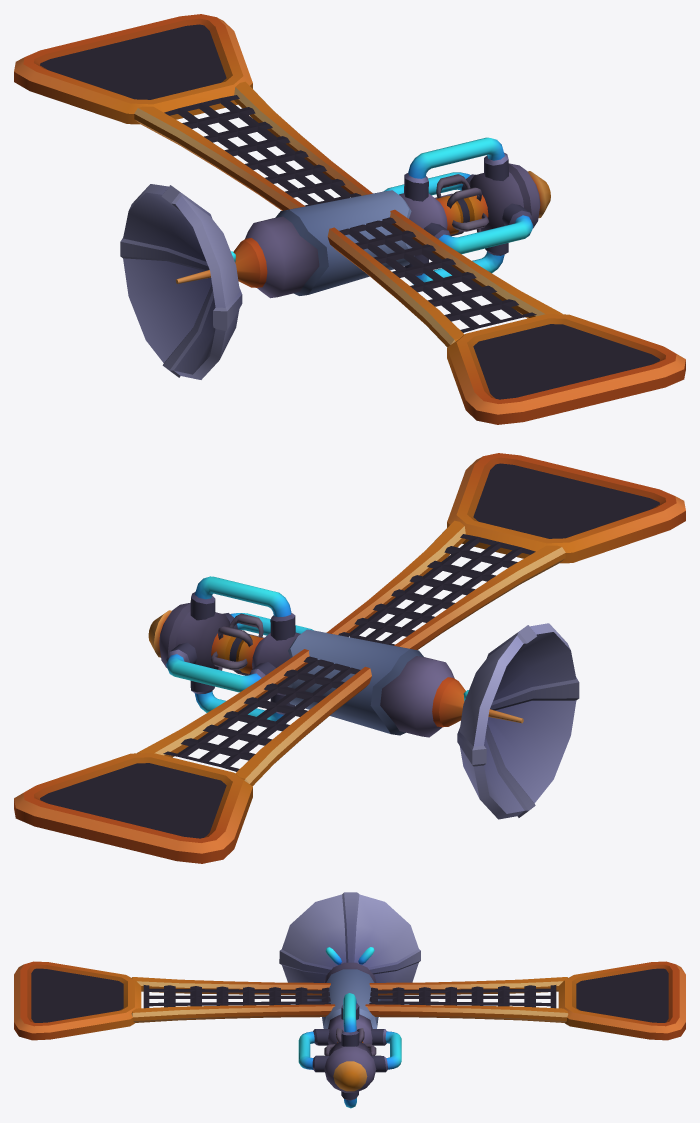
The model's file is SM_Swing _01.fbx.
3 renders of one model, top to bottom at view 1: azimuth 30°, elevation 25°; view 2: azimuth 150°, elevation 25°; view 3: azimuth 270°, elevation 25°, orthographic. The views are drawn at different scales.
Visible parts, largest first — view 1: SM_Swing _01; view 2: SM_Swing _01; view 3: SM_Swing _01.
Boxes of the visible parts, left/top/right/bottom form: SM_Swing _01: left=14, top=14, right=685, bottom=424; SM_Swing _01: left=14, top=453, right=685, bottom=863; SM_Swing _01: left=14, top=892, right=685, bottom=1108.
Size of the model in its own units: 8.44 by 3.95 by 18.77.
